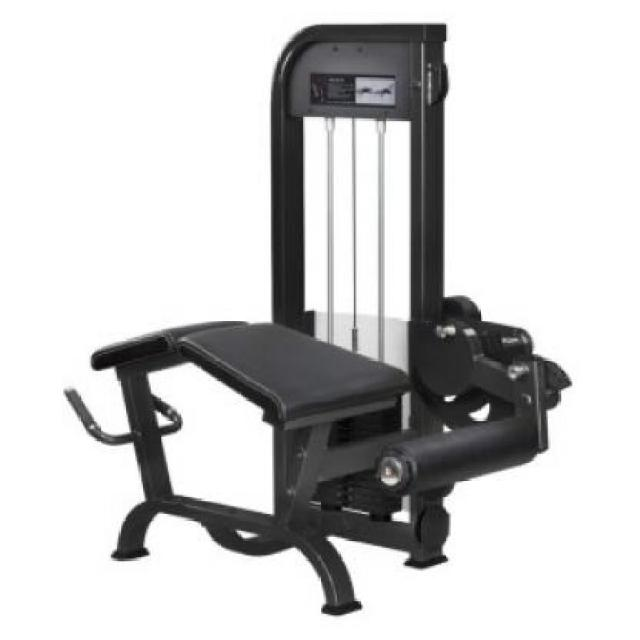reg curl machine: (54, 22, 574, 626)
